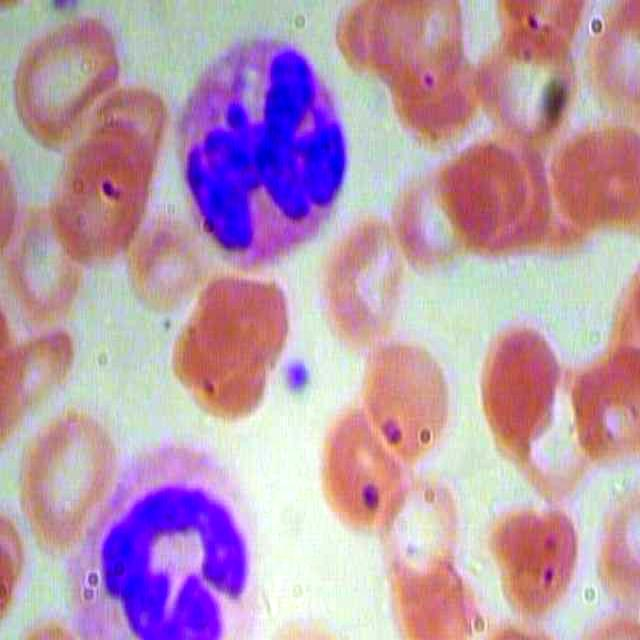Platelets: (278, 358, 311, 398)
WBC: (164, 27, 362, 273), (70, 438, 277, 640)
